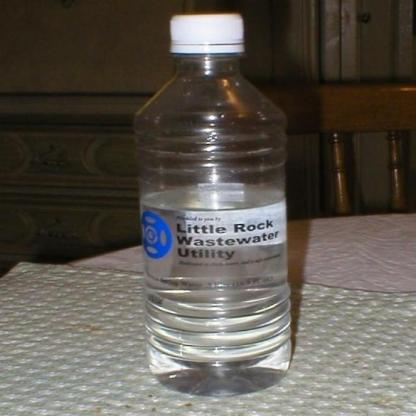Plastic Bottle: (134, 14, 291, 396)
